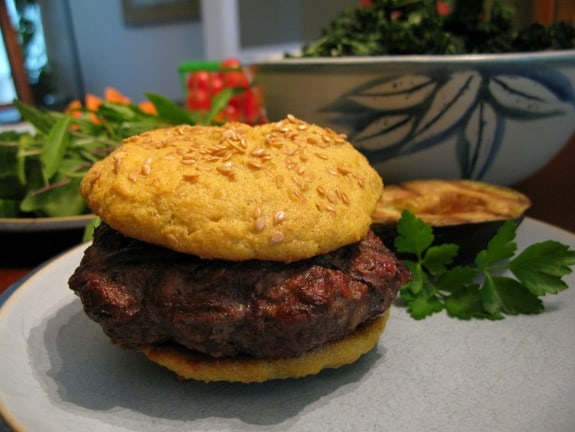hamburger_buns: (93, 275, 436, 403), (87, 102, 360, 256)
